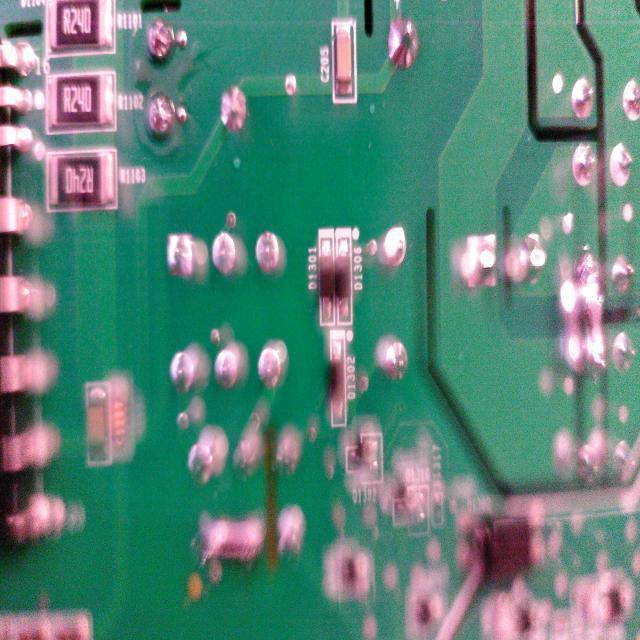Soldering shorted: (579, 255, 610, 383), (202, 511, 268, 568)
